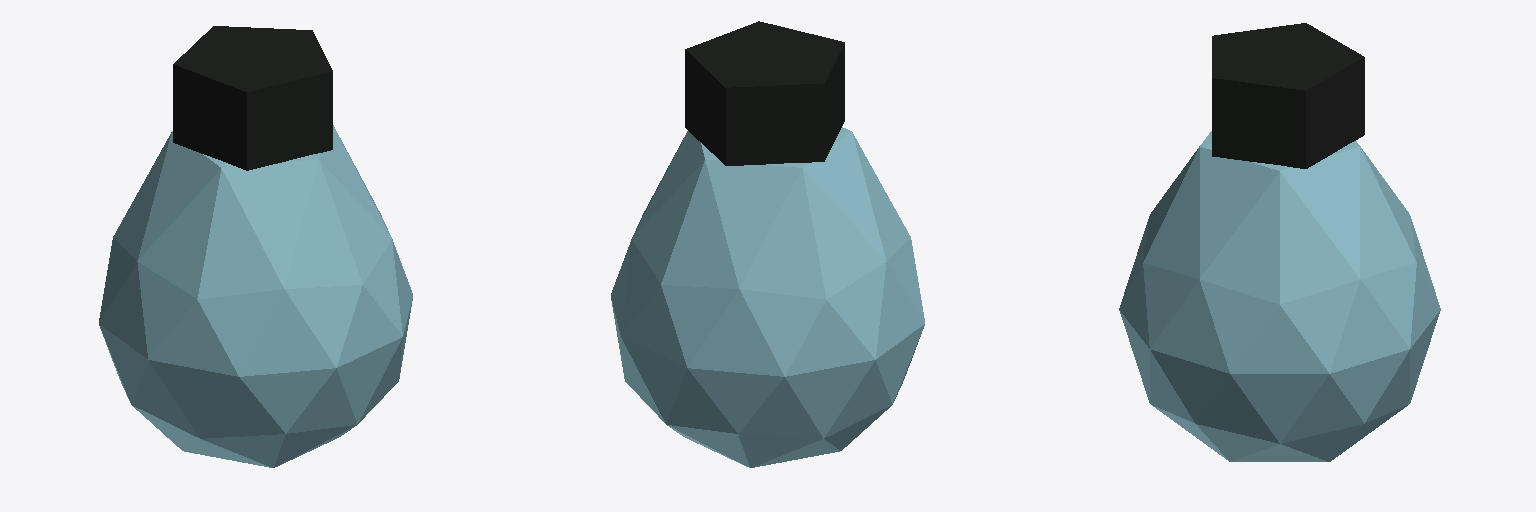
File: Lamp.obj
3 views of the same model, side by side, from view 1: azimuth 30°, elevation 25°; view 2: azimuth 150°, elevation 25°; view 3: azimuth 270°, elevation 25° (orthographic).
Parts seen in each view (by area): view 1: Icosphere.004_Icosphere.023, Icosphere.005_Icosphere.024; view 2: Icosphere.004_Icosphere.023, Icosphere.005_Icosphere.024; view 3: Icosphere.004_Icosphere.023, Icosphere.005_Icosphere.024.
Boxes of the visible parts, x1=… form: Icosphere.004_Icosphere.023: x1=99, y1=125, x2=412, y2=467; Icosphere.005_Icosphere.024: x1=173, y1=26, x2=332, y2=170; Icosphere.004_Icosphere.023: x1=611, y1=127, x2=924, y2=467; Icosphere.005_Icosphere.024: x1=685, y1=21, x2=844, y2=165; Icosphere.004_Icosphere.023: x1=1119, y1=131, x2=1440, y2=461; Icosphere.005_Icosphere.024: x1=1212, y1=23, x2=1364, y2=168.
Bounding box in the file's own units: 0.3356 × 0.4818 × 0.3529.